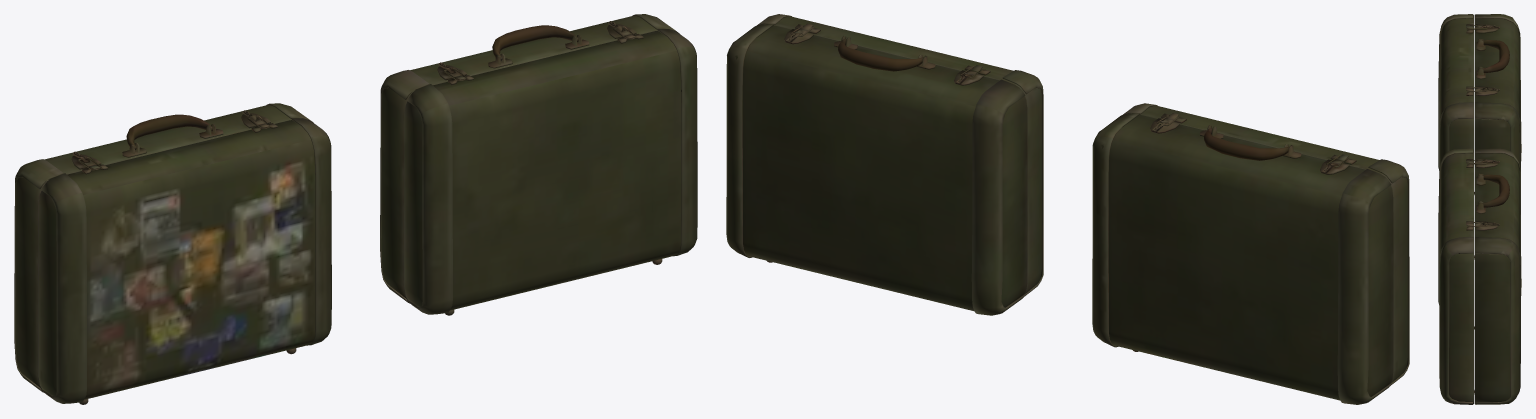
File: p_vintage_suitcase.glb
3 views of the same model, side by side, from view 1: azimuth 30°, elevation 25°; view 2: azimuth 150°, elevation 25°; view 3: azimuth 270°, elevation 25° (orthographic). The views are drawn at different scales.
Parts seen in each view (by area): view 1: vintage_suitcase_01_bottom, vintage_suitcase_02_bottom; view 2: vintage_suitcase_02_bottom, vintage_suitcase_01_bottom; view 3: vintage_suitcase_01_bottom, vintage_suitcase_02_bottom.
Boxes of the visible parts, bbox=[...] form: vintage_suitcase_01_bottom: bbox=[380, 14, 697, 315]; vintage_suitcase_02_bottom: bbox=[14, 103, 331, 404]; vintage_suitcase_02_bottom: bbox=[1092, 103, 1409, 404]; vintage_suitcase_01_bottom: bbox=[726, 14, 1043, 315]; vintage_suitcase_01_bottom: bbox=[1438, 148, 1521, 404]; vintage_suitcase_02_bottom: bbox=[1438, 14, 1521, 259].
Bounding box in the file's own units: 1.61 × 0.5678 × 0.2388.
Materials: 2 (2 with a texture image).
